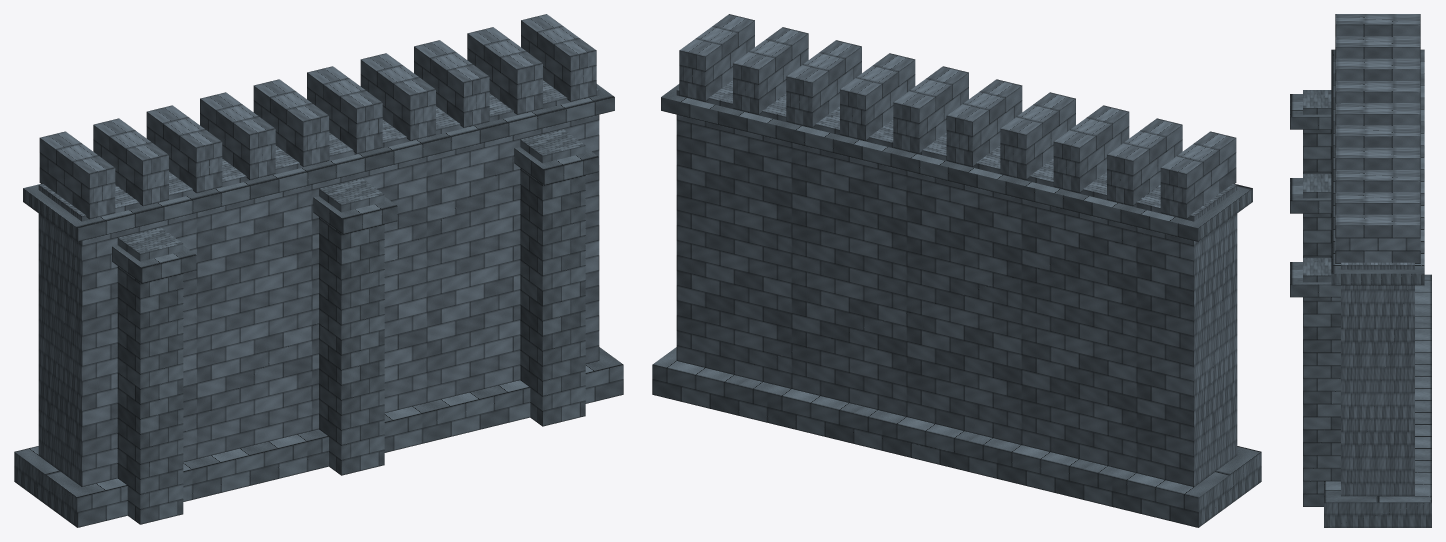
Rendered from curtain-wall.glb.
The picture shows the model from 3 angles, left to right: view 1: azimuth 30°, elevation 25°; view 2: azimuth 150°, elevation 25°; view 3: azimuth 270°, elevation 25°; orthographic projection. The views are drawn at different scales.
Parts seen in each view (by area): view 1: curtain-wall; view 2: curtain-wall; view 3: curtain-wall.
Boxes of the visible parts, <box> form: curtain-wall: <box>14,14,623,527</box>; curtain-wall: <box>652,14,1261,527</box>; curtain-wall: <box>1290,14,1431,527</box>.
Size of the model in its own units: 19 by 11.45 by 5.
Materials: 2 (2 with a texture image).
